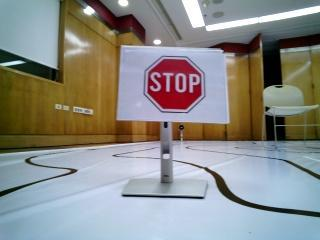stop: (131, 48, 215, 118)
